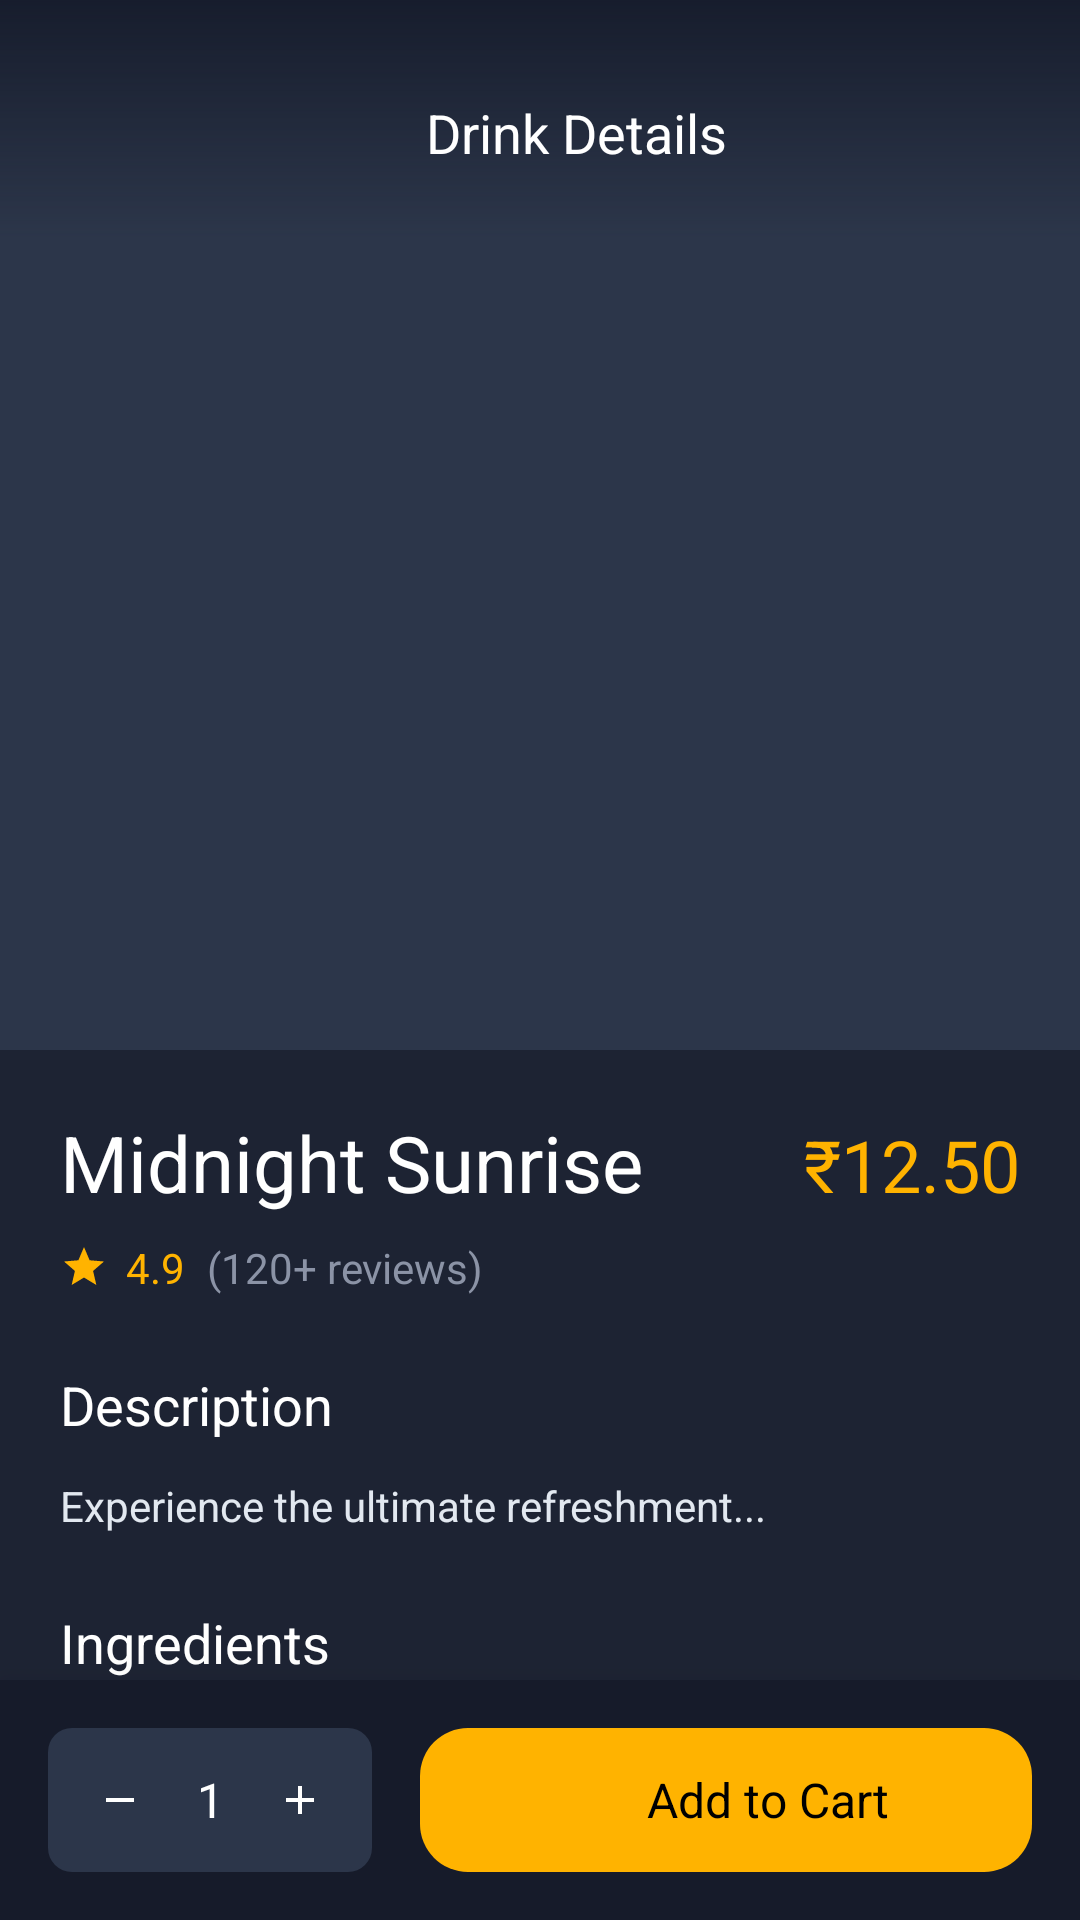

Point at icon controls on the screen. Image size 1080 × 1920, points as [x,y].
plus: [300,1800]
star: [84,1266]
